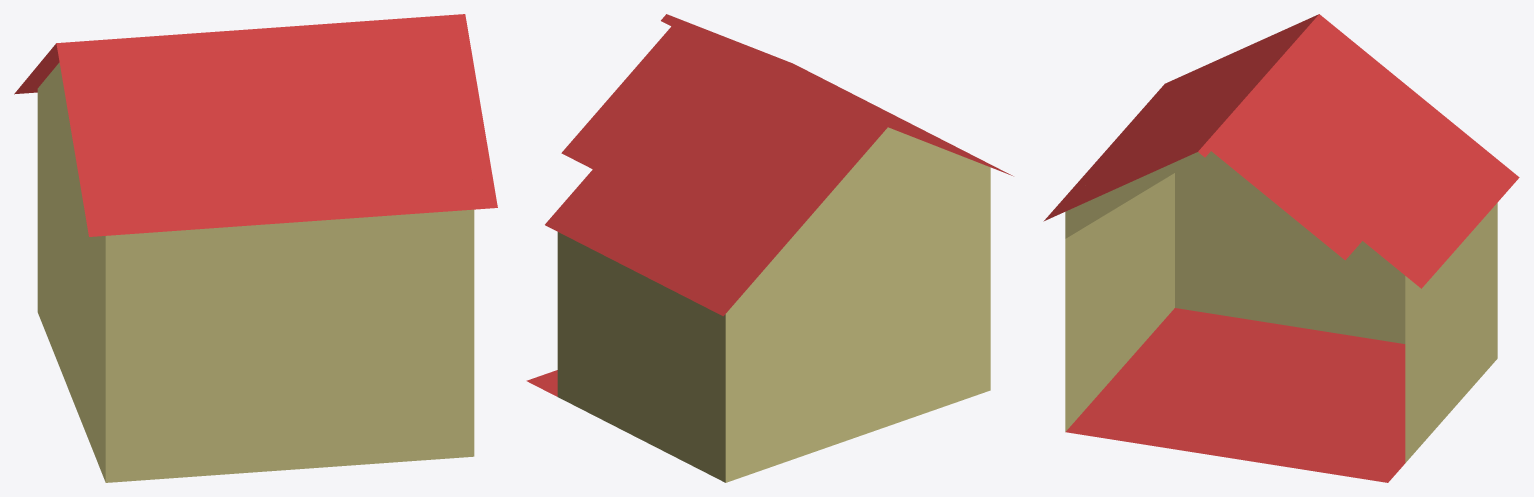
The picture shows the model from 3 angles, left to right: view 1: azimuth 30°, elevation 25°; view 2: azimuth 150°, elevation 25°; view 3: azimuth 270°, elevation 25°; orthographic projection. The views are drawn at different scales.
Bounding box in the file's own units: 19.06 × 20.81 × 14.89.
